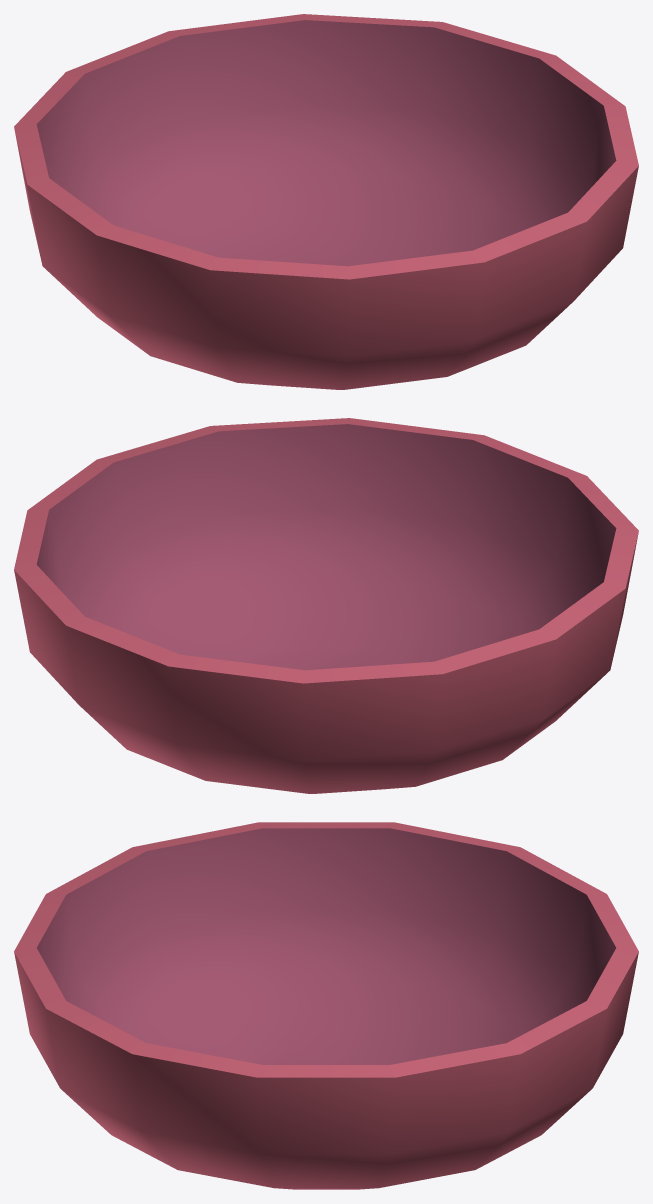
The model's file is Bowl2_geo.fbx.
3 renders of one model, top to bottom at view 1: azimuth 30°, elevation 25°; view 2: azimuth 150°, elevation 25°; view 3: azimuth 270°, elevation 25°, orthographic.
Visible parts, largest first — view 1: Bowl2_geo; view 2: Bowl2_geo; view 3: Bowl2_geo.
Boxes of the visible parts, x1,y1,x2,y2 form: Bowl2_geo: (14,14,638,389); Bowl2_geo: (14,418,638,793); Bowl2_geo: (14,822,638,1189).
Bounding box in the file's own units: 0.6549 × 0.6776 × 0.23.
